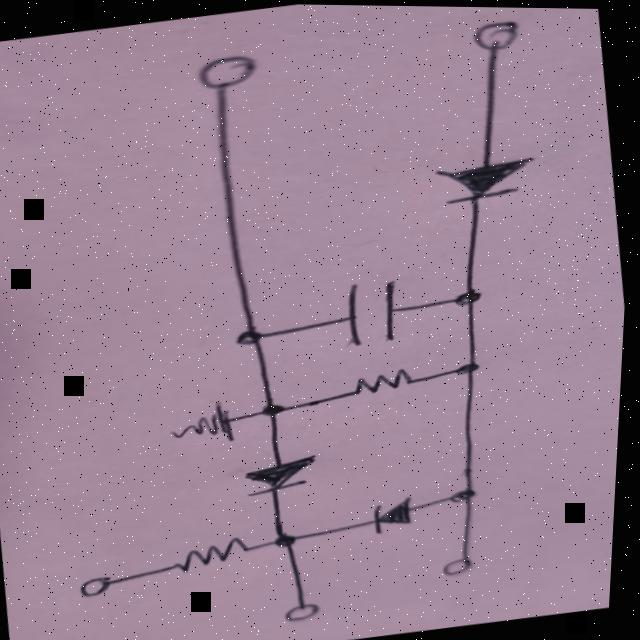capacitor: (338, 277, 415, 345)
diode: (435, 152, 542, 207), (247, 451, 324, 497), (372, 494, 426, 534)
ground: (169, 400, 246, 449)
junction: (453, 284, 490, 309), (274, 527, 308, 554), (451, 483, 490, 506), (237, 326, 270, 349), (453, 358, 489, 376), (264, 400, 293, 419)
resistor: (173, 531, 266, 574), (352, 363, 426, 398)
terminal: (194, 51, 262, 96), (472, 15, 527, 59), (80, 570, 132, 602), (445, 552, 484, 577), (290, 598, 329, 623)
